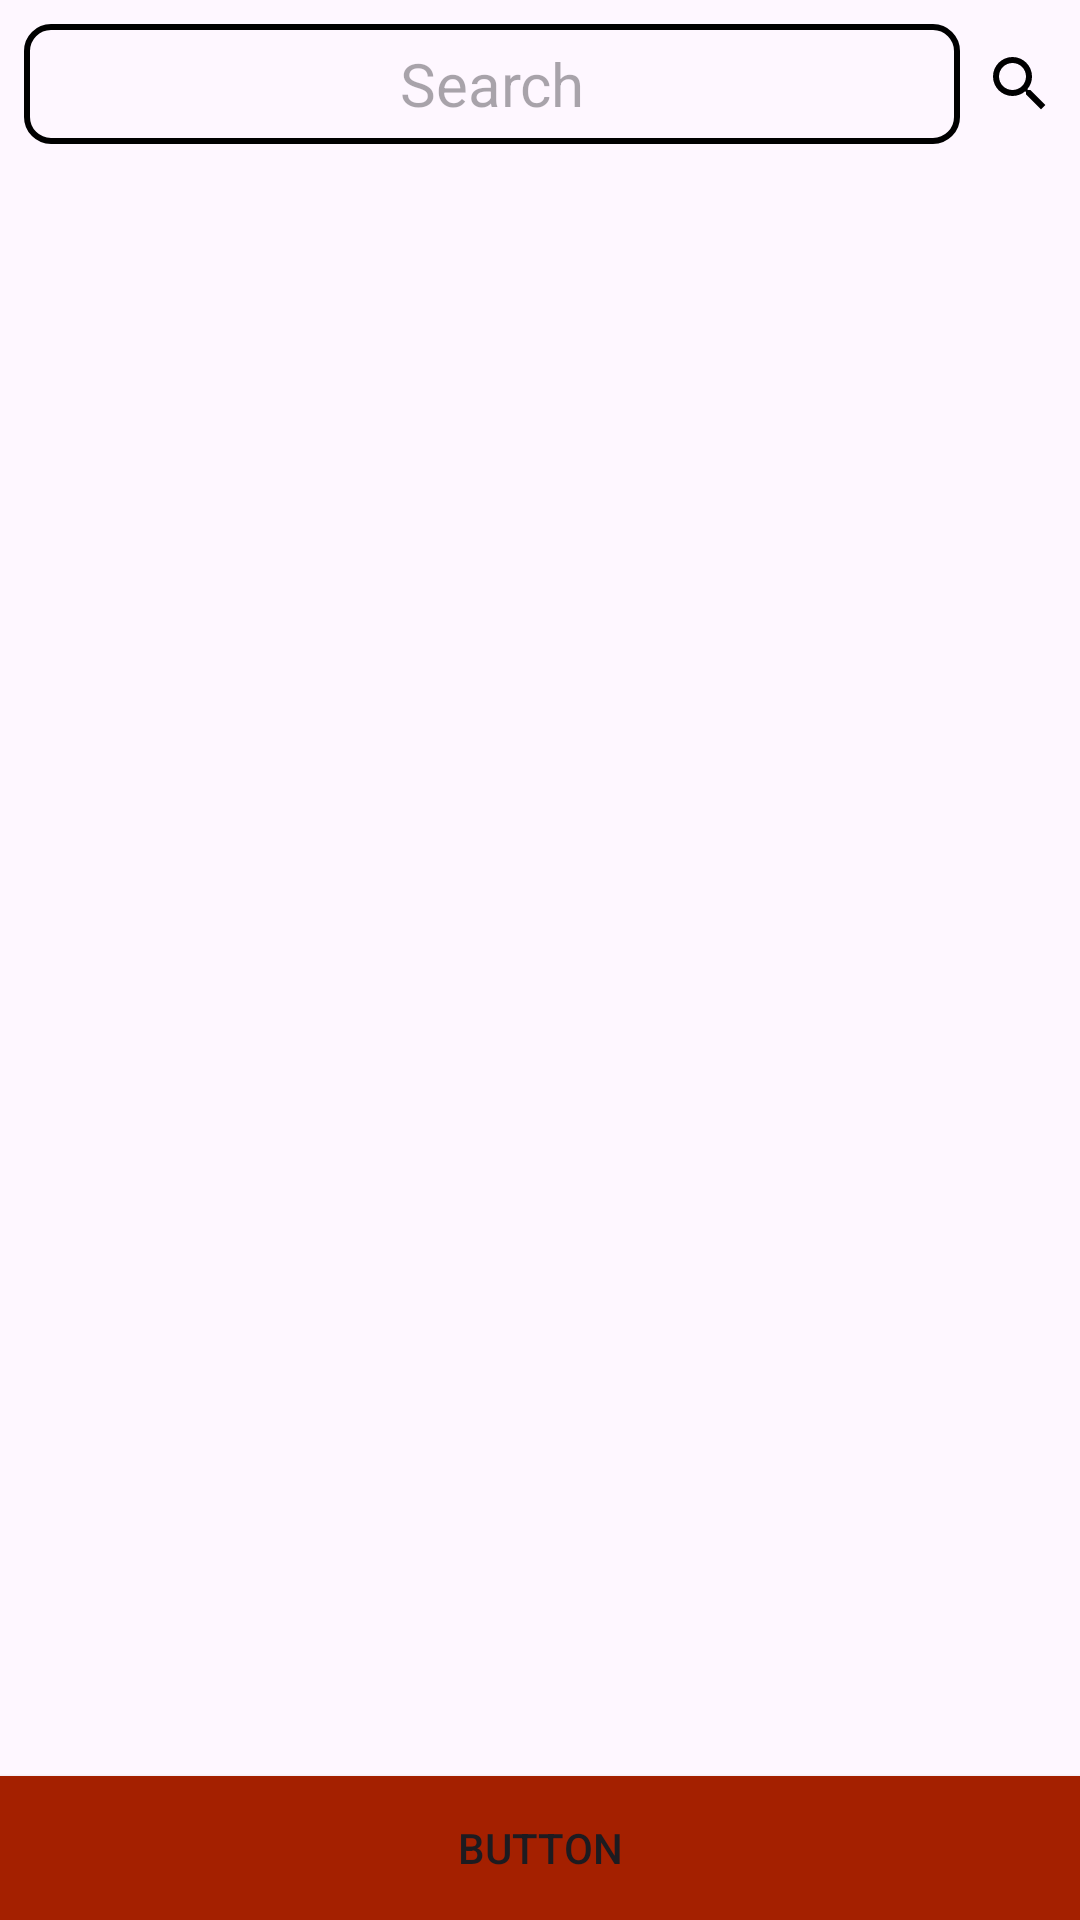

Screen size 1080*1920. Icon name, then its box in pixels as (x1, y1, x2, y2):
magnify glass: (993, 57, 1045, 109)
